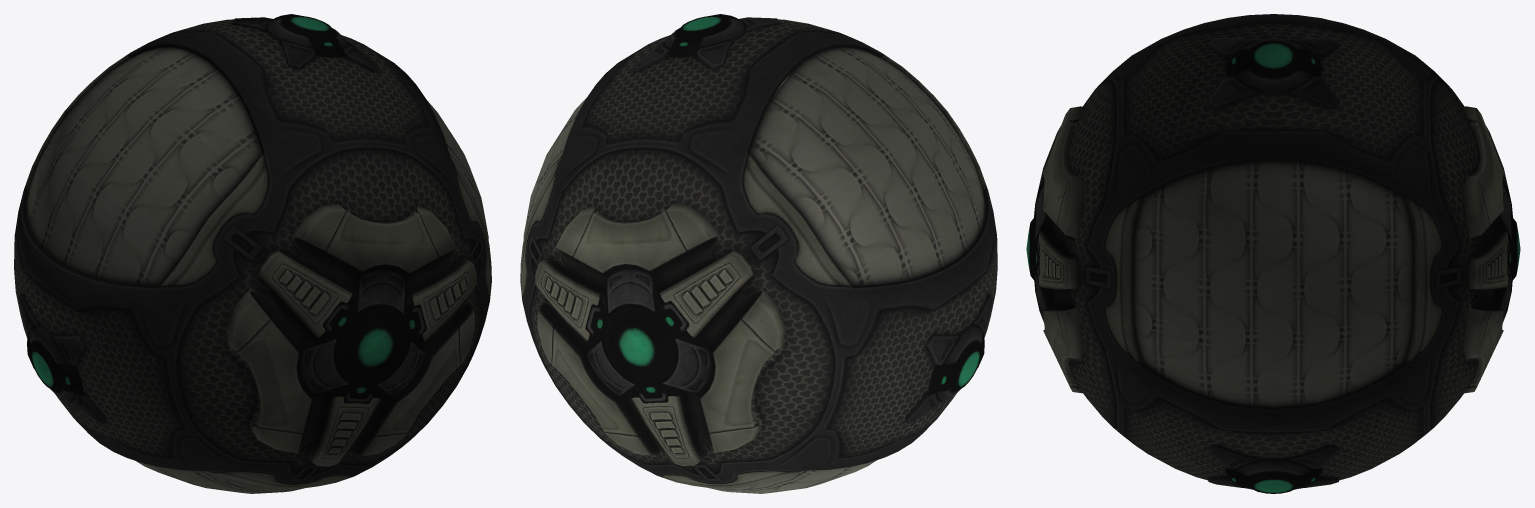
Rendered from ball.obj.
The picture shows the model from 3 angles, left to right: view 1: azimuth 30°, elevation 25°; view 2: azimuth 150°, elevation 25°; view 3: azimuth 270°, elevation 25°; orthographic projection.
Visible parts, largest first — view 1: Mesh_1021.rip_Mesh_1021.rip_mesh0000; view 2: Mesh_1021.rip_Mesh_1021.rip_mesh0000; view 3: Mesh_1021.rip_Mesh_1021.rip_mesh0000.
Part boxes in pixels (x1,y1,x2,y2): Mesh_1021.rip_Mesh_1021.rip_mesh0000: [14, 14, 491, 493]; Mesh_1021.rip_Mesh_1021.rip_mesh0000: [520, 14, 997, 493]; Mesh_1021.rip_Mesh_1021.rip_mesh0000: [1026, 14, 1520, 493].
Bounding box in the file's own units: 4.64 × 4.64 × 4.75.
